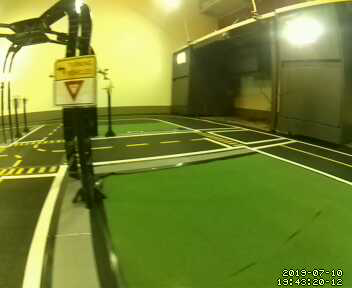Turn Yield: (54, 55, 100, 110)
